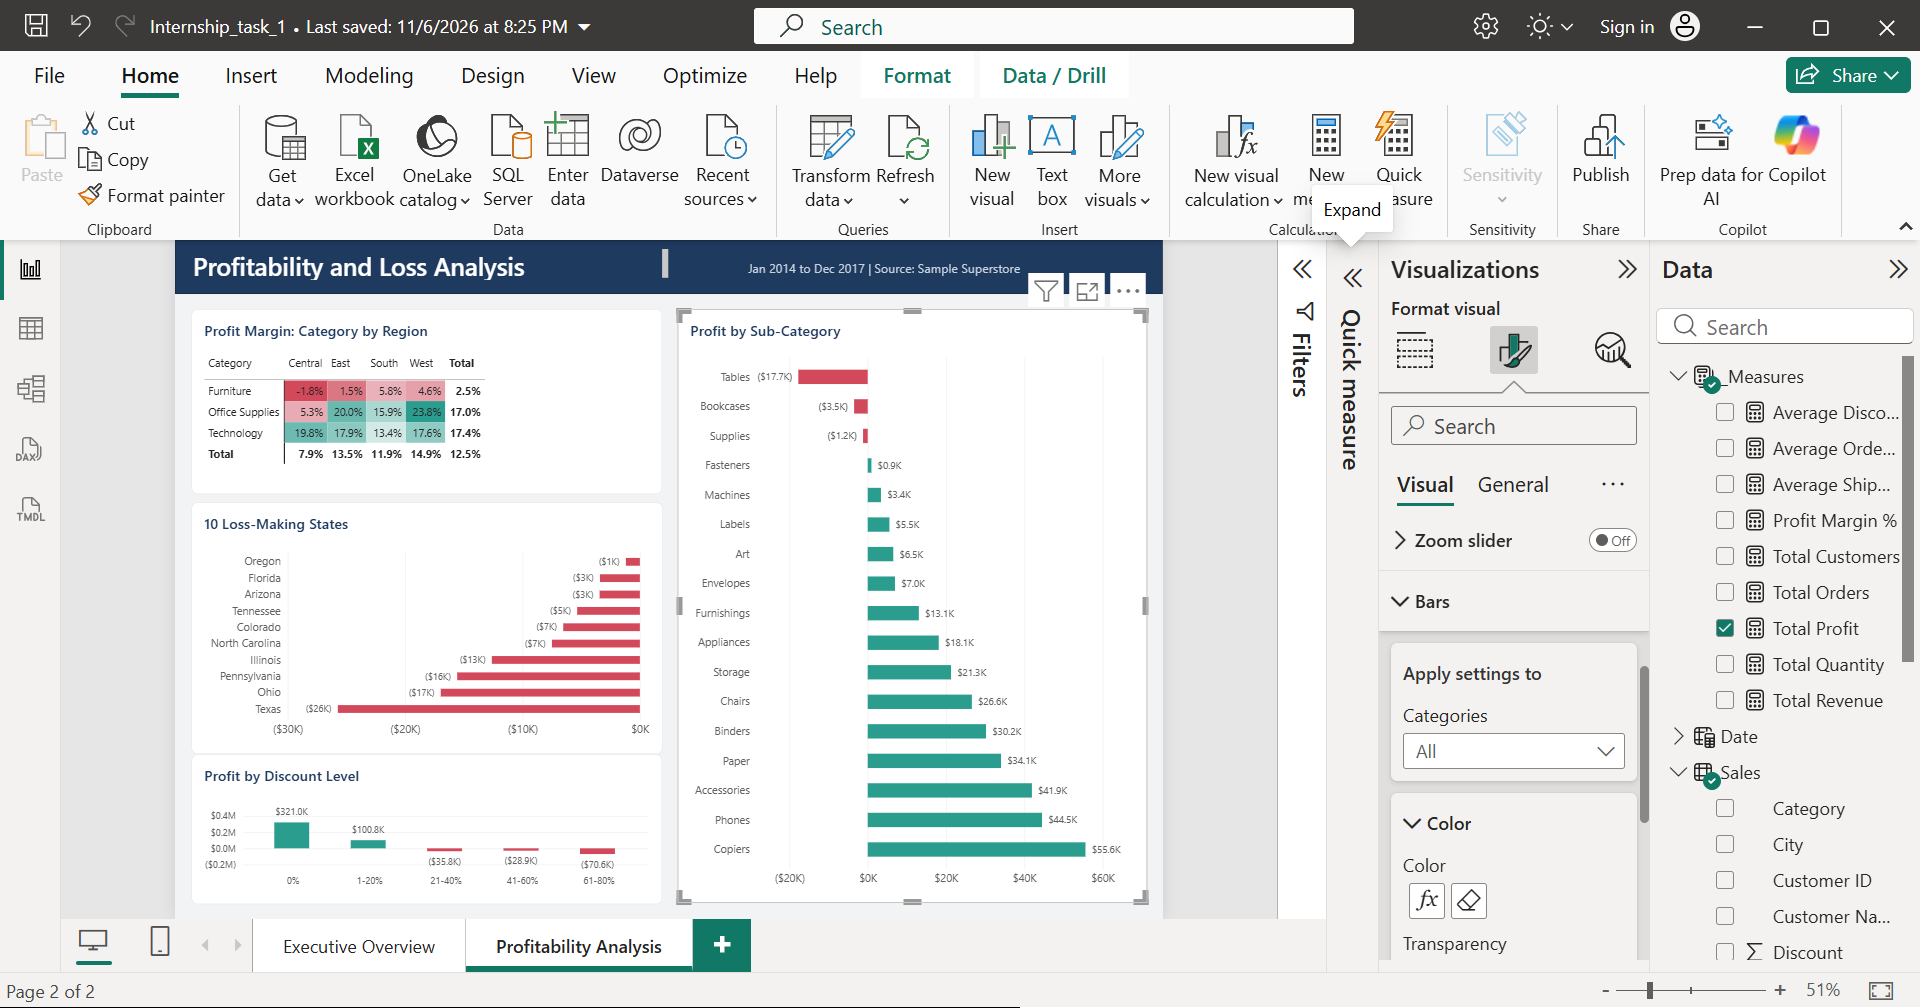

Layout of this report page (visuals, bound fields, positions):
{"tool":"powerbi","page":{"name":"Profitability Analysis","canvas":[1280,880],"ordinal":1},"visuals":[{"type":"shape","box":[0,0,1280,70],"z":0},{"type":"textbox","box":[24.3,11.4,615.7,40],"z":1000},{"type":"textbox","box":[640,26,456,30],"z":2000},{"type":"pivotTable","title":"Profit Margin: Category by Region","fields":{"Columns":["Sales.Region"],"Rows":["Sales.Category"],"Values":["_Measures.Profit Margin %"]},"box":[21,90,610,240],"z":3000},{"type":"clusteredBarChart","title":"Profit by Sub-Category","fields":{"Category":["Sales.Sub Category"],"Y":["_Measures.Total Profit"]},"box":[651,90.1,608,770],"z":4000},{"type":"clusteredBarChart","title":"10 Loss-Making States","fields":{"Category":["Sales.State"],"Y":["_Measures.Total Profit"]},"box":[21.4,340,610.4,326],"z":4001},{"type":"clusteredColumnChart","title":"Profit by Discount Level","fields":{"Category":["Sales.Discount Band"],"Y":["_Measures.Total Profit"]},"box":[21,666,610,194],"z":4002}]}

Visuals, with their boxes on the page's 1280x880 design canvas (x1, y1, x2, y2). These are canvas units, not pixel positions in the 1920x1008 screenshot, which may show the page scaled, cropped or inside an application window:
shape: rect(0, 0, 1280, 70)
textbox: rect(24, 11, 640, 51)
textbox: rect(640, 26, 1096, 56)
"Profit Margin: Category by Region" pivotTable: rect(21, 90, 631, 330)
"Profit by Sub-Category" clusteredBarChart: rect(651, 90, 1259, 860)
"10 Loss-Making States" clusteredBarChart: rect(21, 340, 632, 666)
"Profit by Discount Level" clusteredColumnChart: rect(21, 666, 631, 860)
